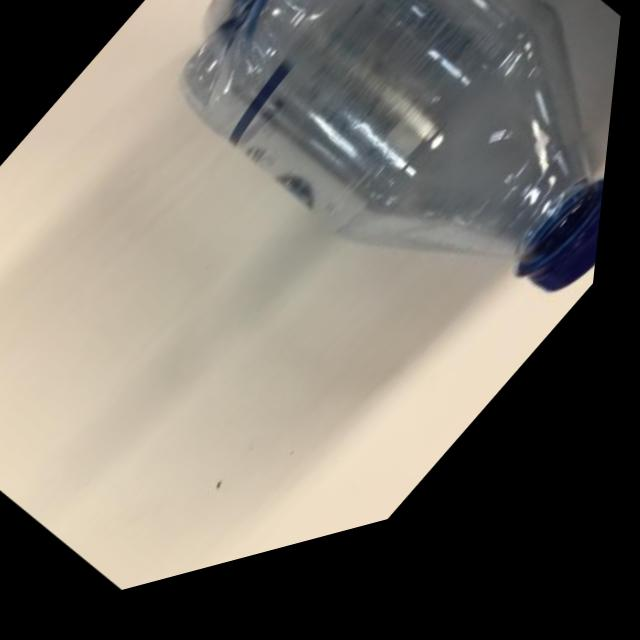plastic: (28, 0, 640, 561)
